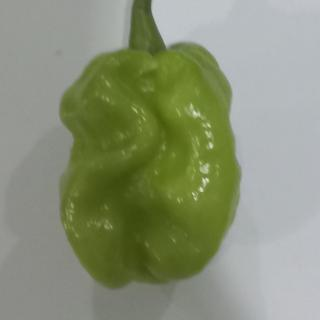Grade-A: (51, 35, 246, 289)
